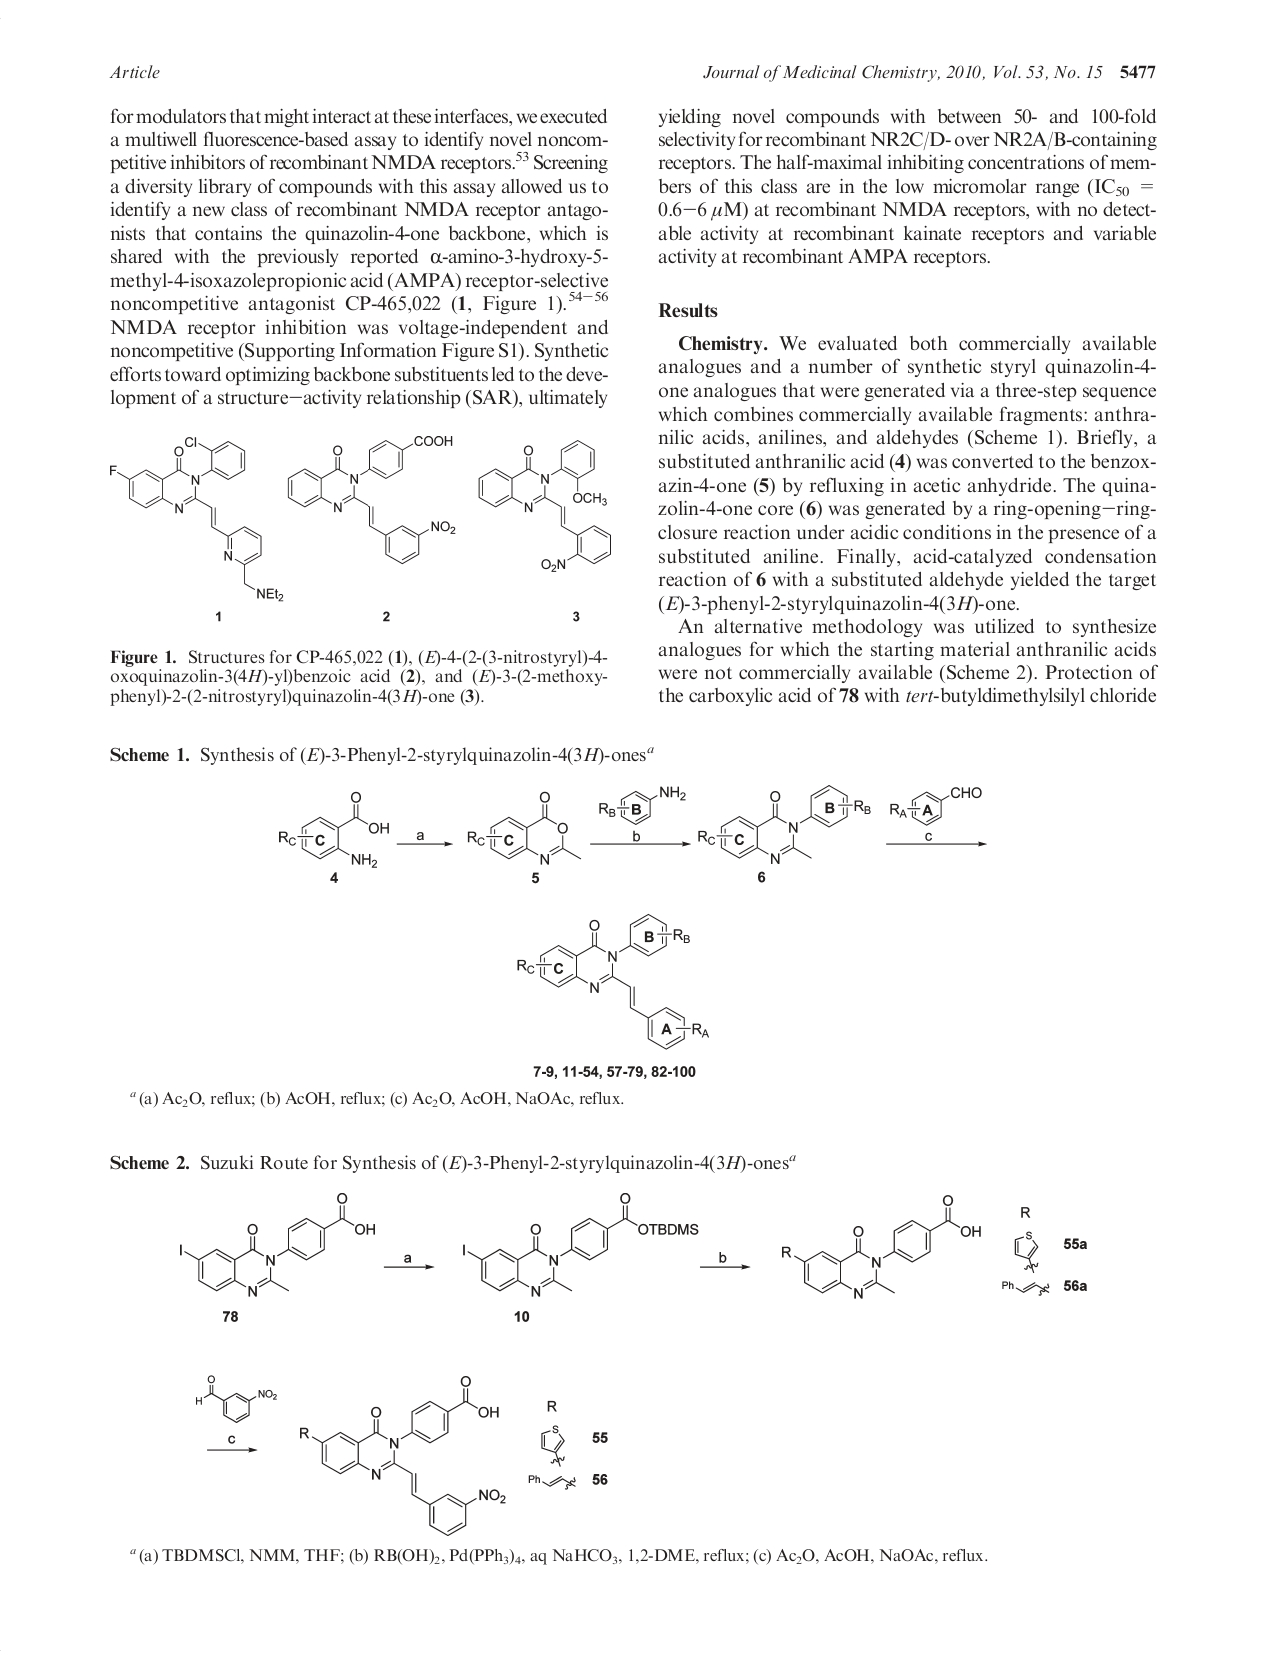exist_molecular: (297, 1364, 515, 1537), (102, 431, 289, 610), (513, 906, 714, 1055), (461, 1184, 702, 1301), (173, 1184, 386, 1305), (775, 1192, 987, 1303), (283, 436, 457, 567), (475, 436, 614, 577), (696, 779, 871, 864), (468, 789, 590, 870), (275, 789, 394, 870), (189, 1367, 281, 1434), (883, 779, 996, 829), (594, 781, 685, 827), (999, 1229, 1052, 1305), (531, 1426, 578, 1500)
